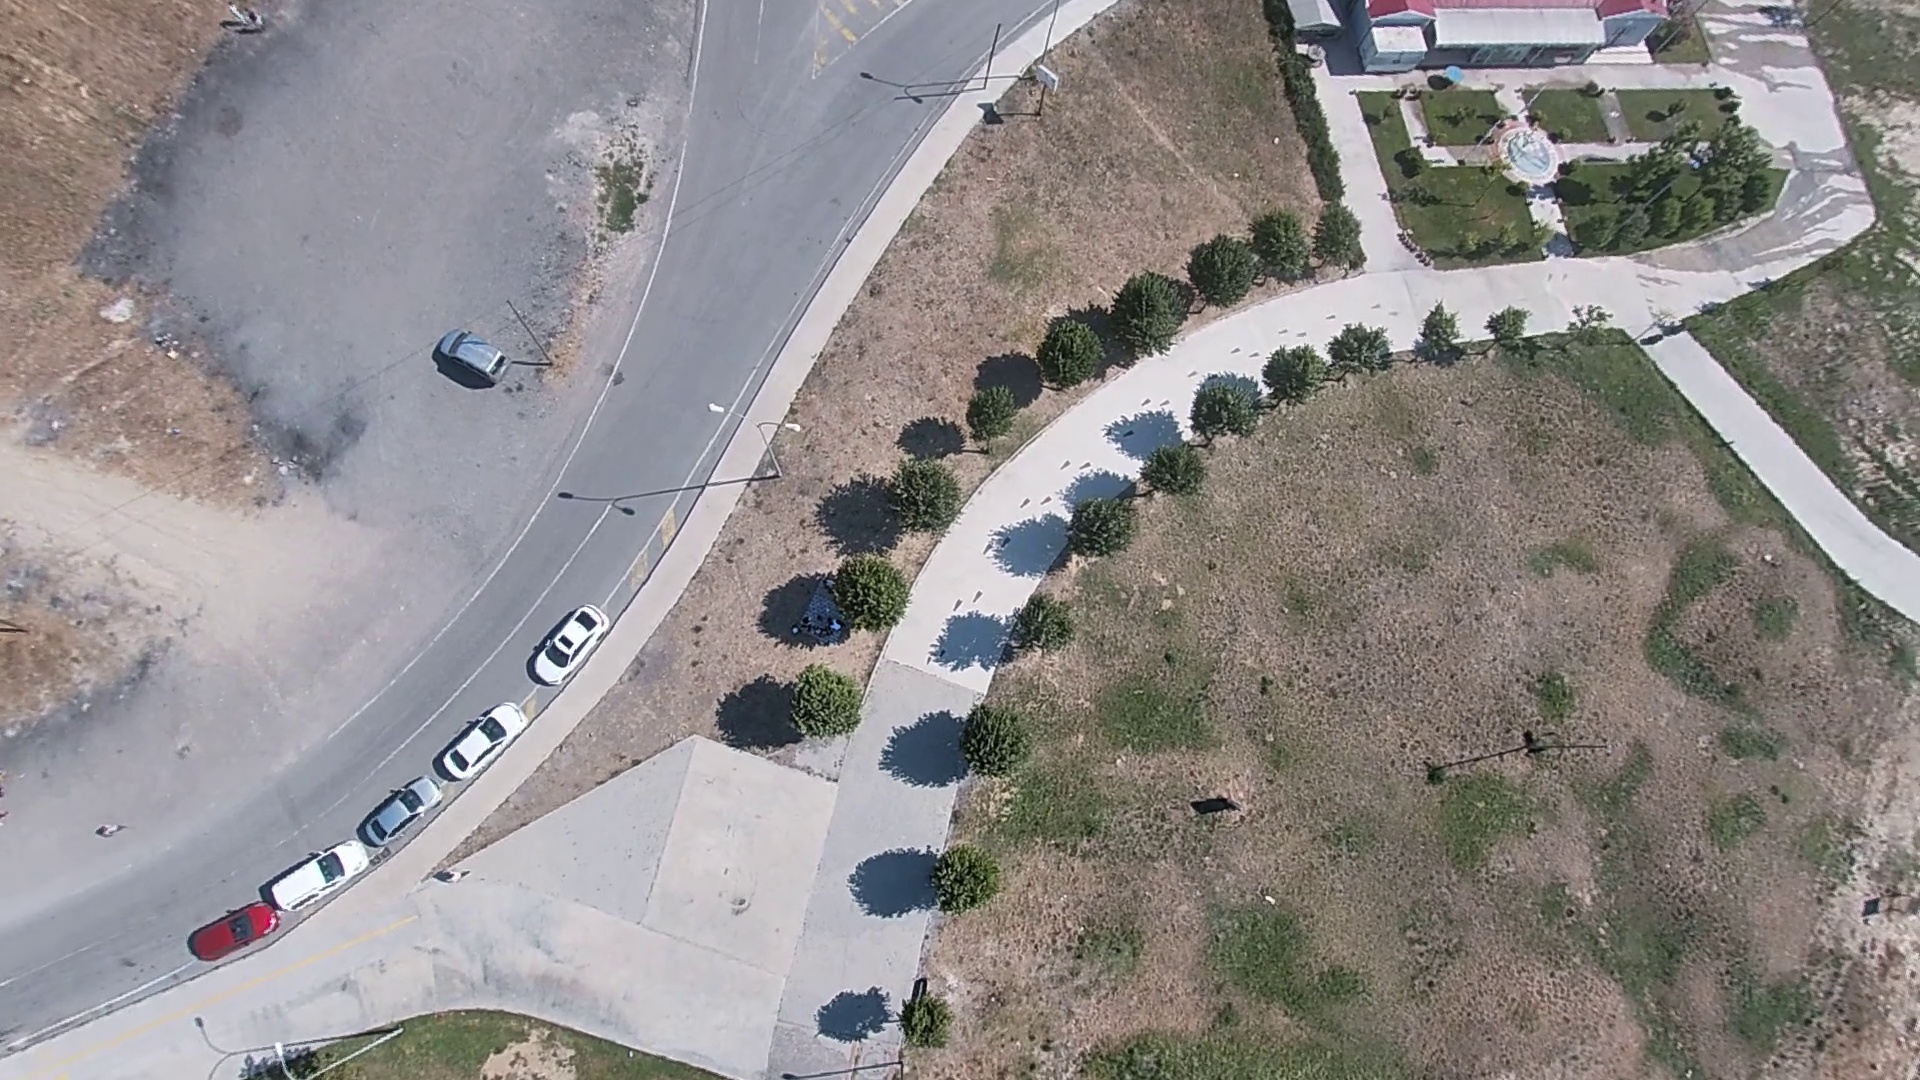araba: (439, 695, 531, 795), (273, 837, 382, 915), (186, 895, 281, 967), (522, 603, 604, 684), (363, 767, 442, 851), (429, 323, 508, 385)
